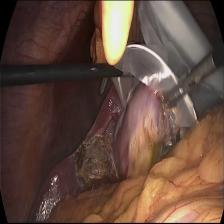Grasper: (161, 56, 211, 115)
Specimen Bag: (110, 0, 224, 145)
